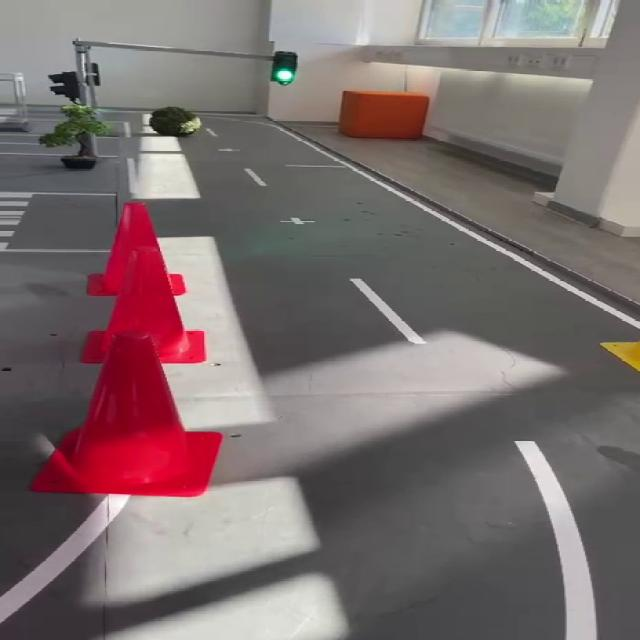Cone-red: (32, 332, 221, 497), (81, 203, 204, 363), (99, 202, 157, 295)
Cones-yellow: (603, 341, 639, 372)
